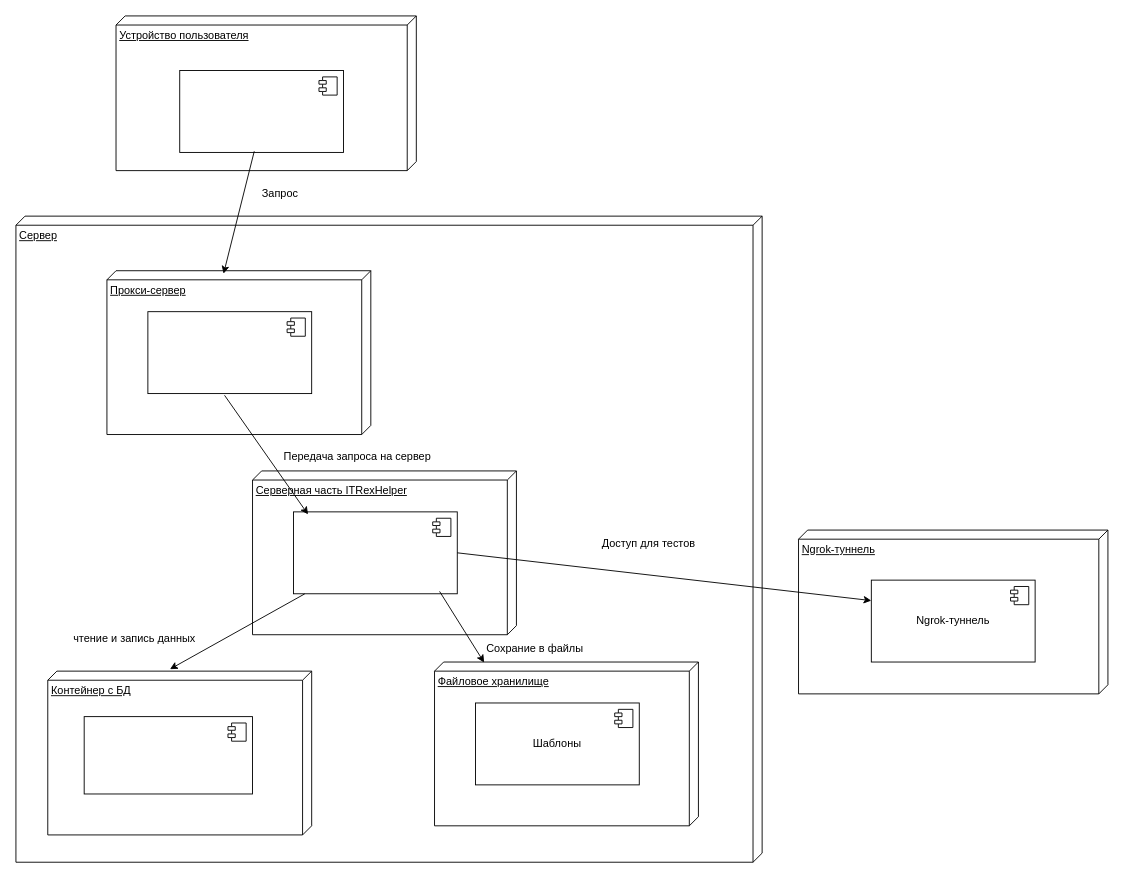
The diagram is 1124 pixels wide and 878 high, and some of its shapes have lost their labels. Each missing label, with the centre of its shape:
"API-сервер" belongs at [375,552].
"Nginx" belongs at [229,352].
"БД" belongs at [168,755].
"Веб-браузер" belongs at [261,111].
